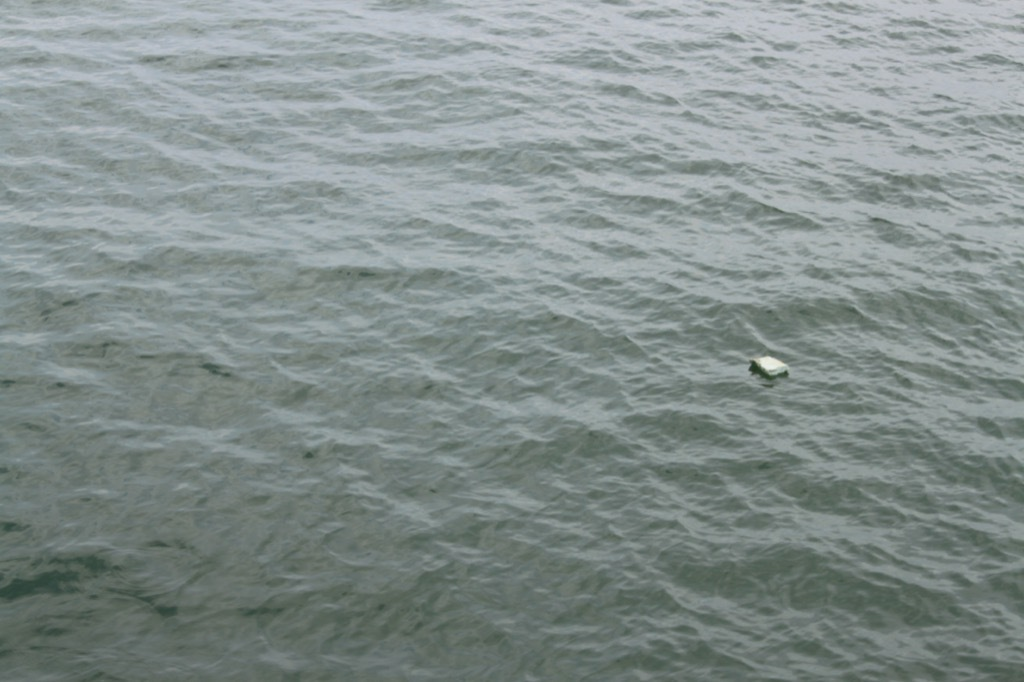plastic: (729, 333, 801, 397)
